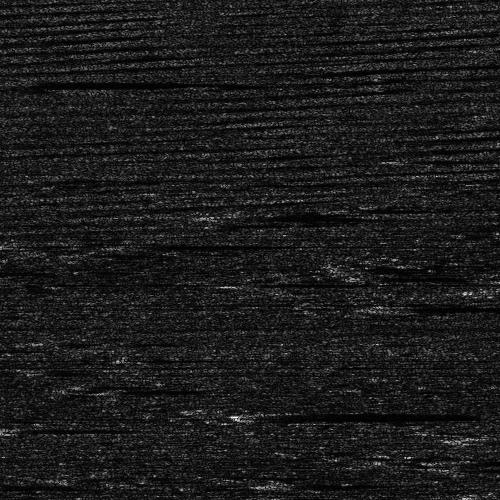rock: (201, 409, 274, 422), (55, 238, 138, 249), (429, 433, 500, 442), (228, 209, 291, 218), (346, 301, 399, 310), (254, 479, 307, 488), (467, 285, 500, 292), (195, 281, 258, 284), (0, 479, 18, 488), (0, 81, 20, 84)
shadow: (238, 409, 421, 422), (260, 209, 449, 218), (97, 238, 235, 249), (373, 301, 500, 310), (281, 479, 393, 488), (0, 479, 90, 488), (0, 81, 232, 84), (227, 281, 337, 284), (466, 433, 500, 442)
